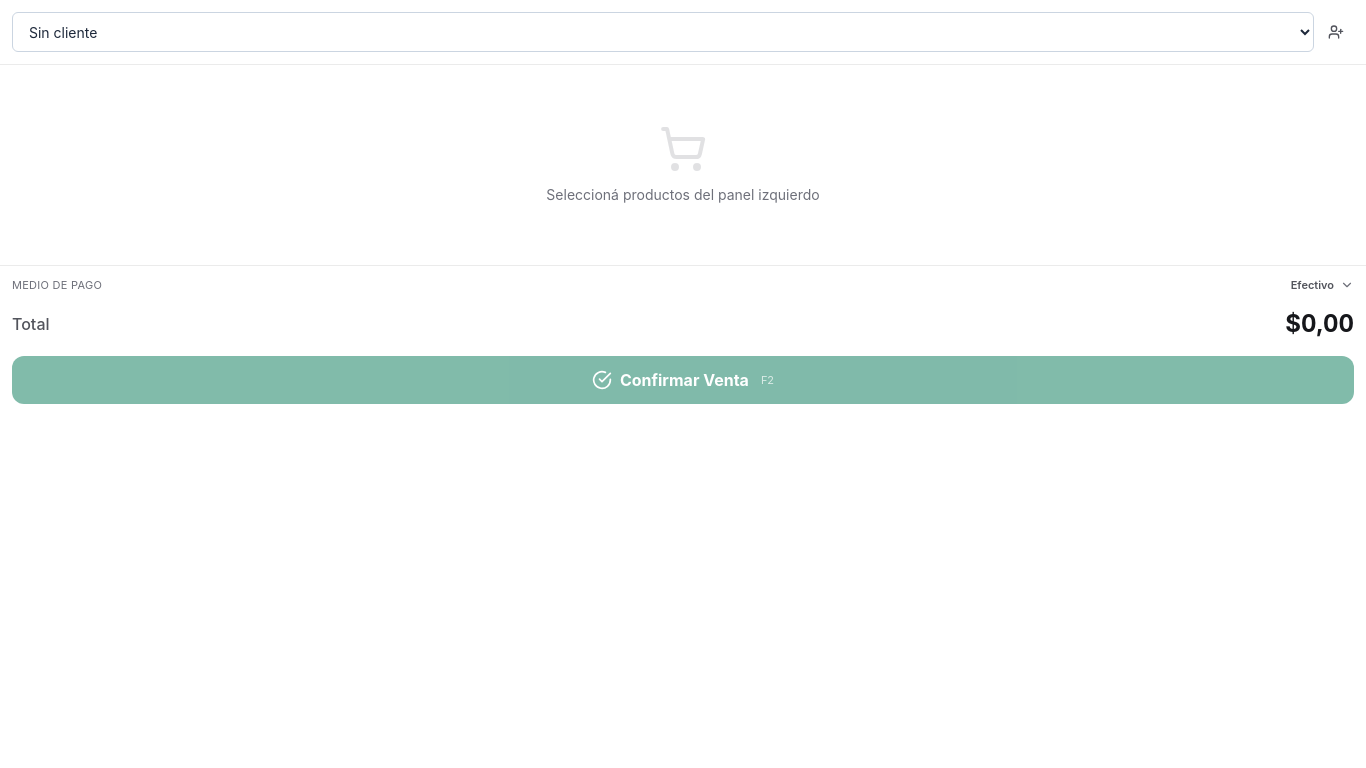
PanelCarrito — medios de pago offline › offline: Efectivo y Transferencia siguen habilitados
Click the button "Medio de pago Efectivo" at (57, 285), box [12, 278, 1354, 292]
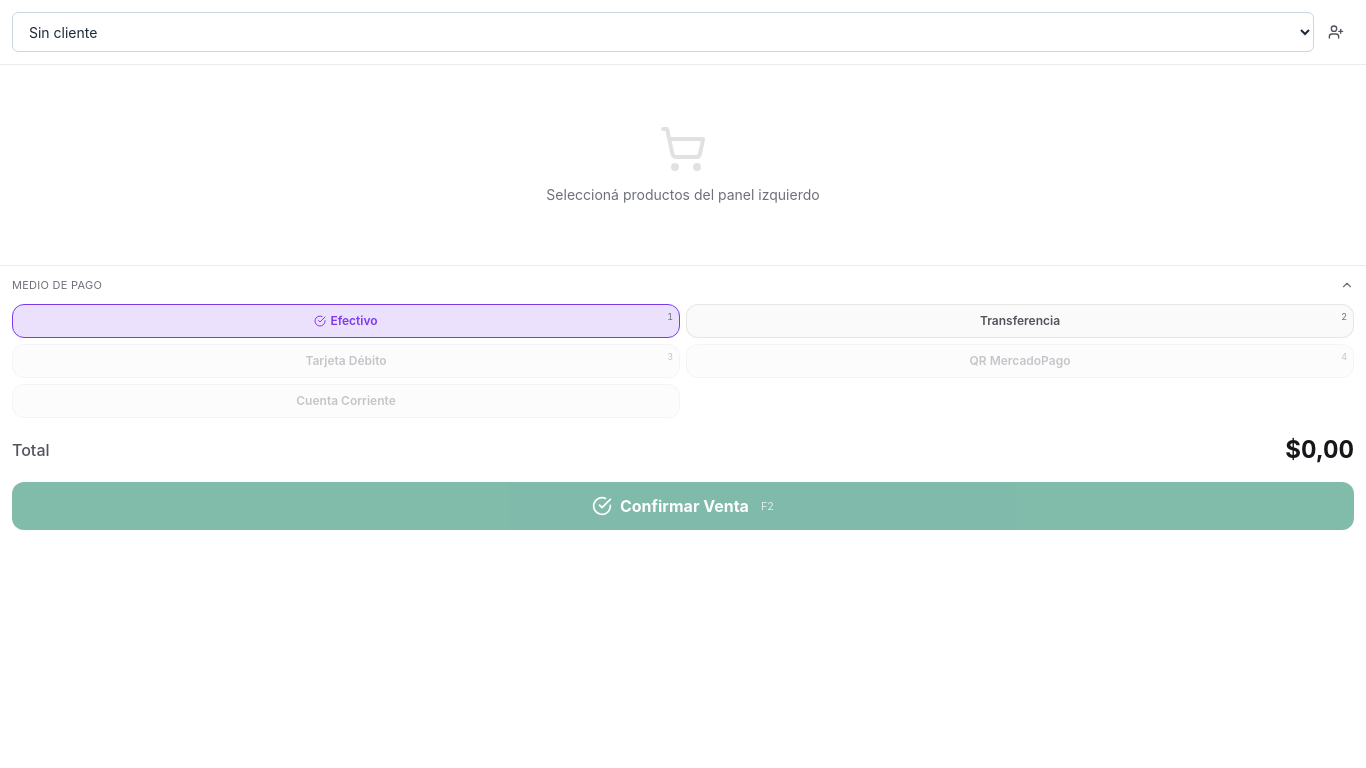
Now the button "1 Efectivo" is enabled, box [12, 304, 680, 338]
Now the button "2 Transferencia" is enabled, box [686, 304, 1354, 338]
